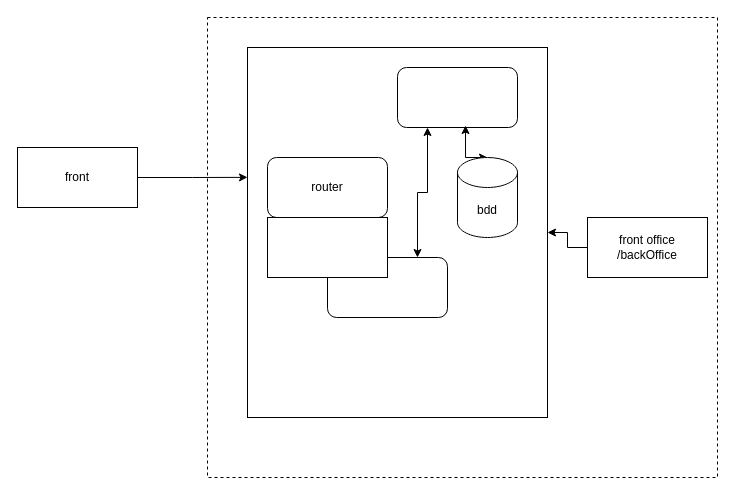
The diagram is 735 pixels wide and 495 high, and some of its shapes have lost their labels. The shapes that lost their labels are listed below. From the top down, each one's centre as x and y in pixels, then its label:
At (457,97): "model".
At (387,287): "ctrl".
